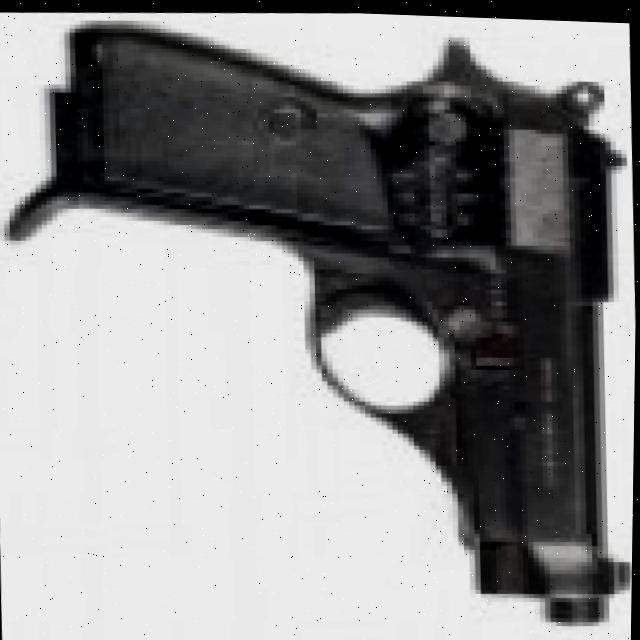pistol: (0, 1, 640, 640)
